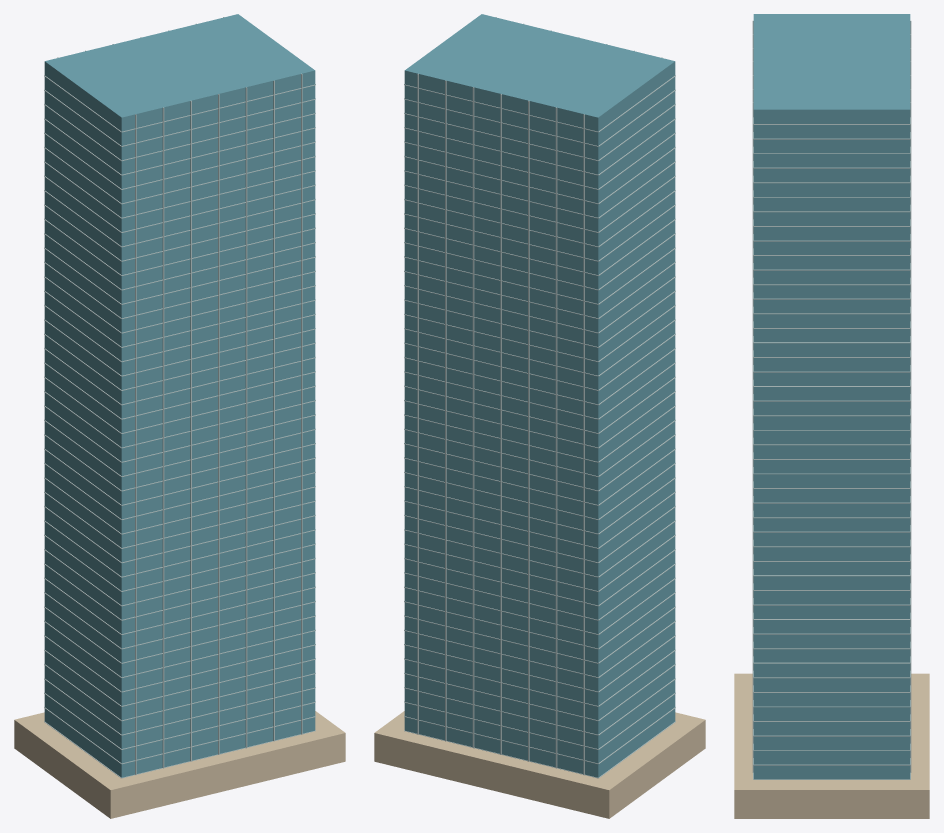
Rendered from shangri-la-grand.glb.
3 renders of one model, left to right at view 1: azimuth 30°, elevation 25°; view 2: azimuth 150°, elevation 25°; view 3: azimuth 270°, elevation 25°, orthographic.
Parts seen in each view (by area): view 1: shangri-la-grand; view 2: shangri-la-grand; view 3: shangri-la-grand.
Boxes of the visible parts, left/top/right/bottom form: shangri-la-grand: left=14, top=14, right=345, bottom=818; shangri-la-grand: left=374, top=14, right=705, bottom=818; shangri-la-grand: left=734, top=14, right=929, bottom=818.
Bounding box in the file's own units: 52.17 × 146 × 37.06.
